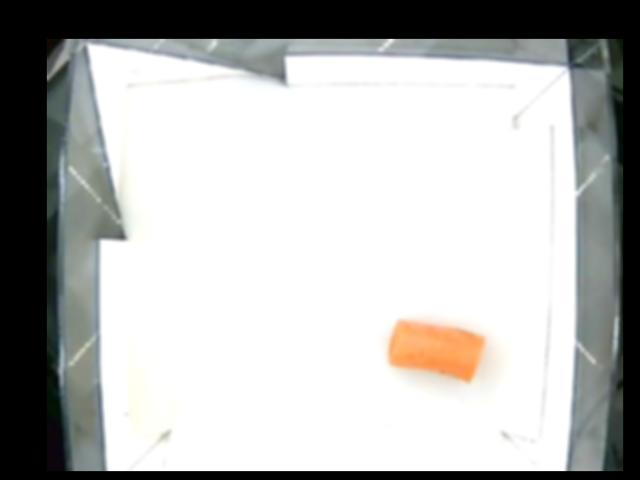Carrot: (389, 318, 489, 384)
